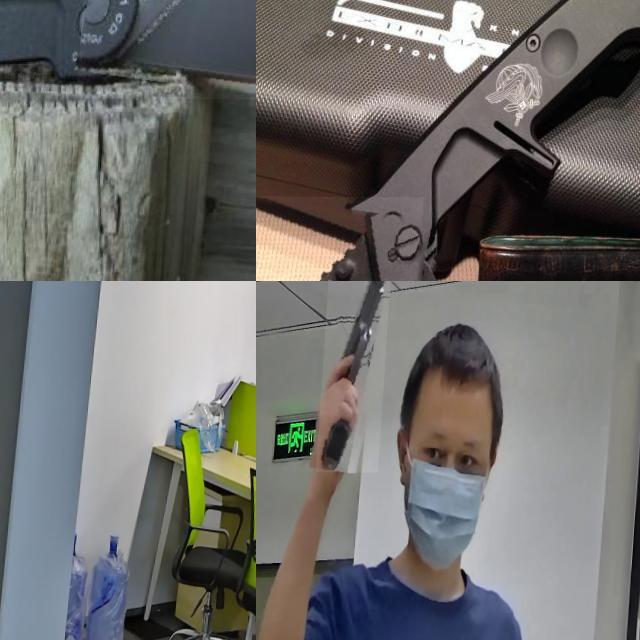-: (81, 0, 256, 99)
gun-knife-thesis - v11 Yolov5 augmented: (321, 281, 395, 472), (0, 352, 22, 424)
